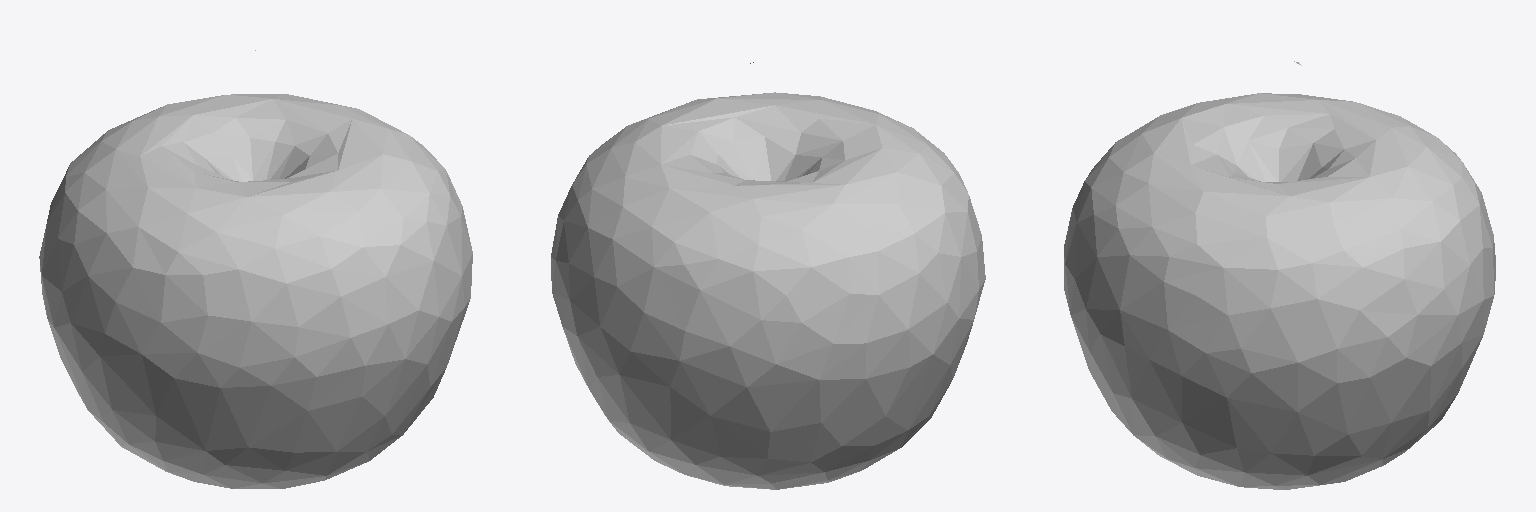
The model's file is Anoying Orange.mtl.obj.
3 renders of one model, left to right at view 1: azimuth 30°, elevation 25°; view 2: azimuth 150°, elevation 25°; view 3: azimuth 270°, elevation 25°, orthographic.
Visible parts, largest first — view 1: Cylinder.004_Cylinder.002; view 2: Cylinder.004_Cylinder.002; view 3: Cylinder.004_Cylinder.002.
Boxes of the visible parts, box(x1,y1,x2,y2) form: Cylinder.004_Cylinder.002: box(39, 50, 472, 488); Cylinder.004_Cylinder.002: box(551, 62, 985, 489); Cylinder.004_Cylinder.002: box(1064, 61, 1495, 489).
Bounding box in the file's own units: 0.6591 × 0.6619 × 0.6567.